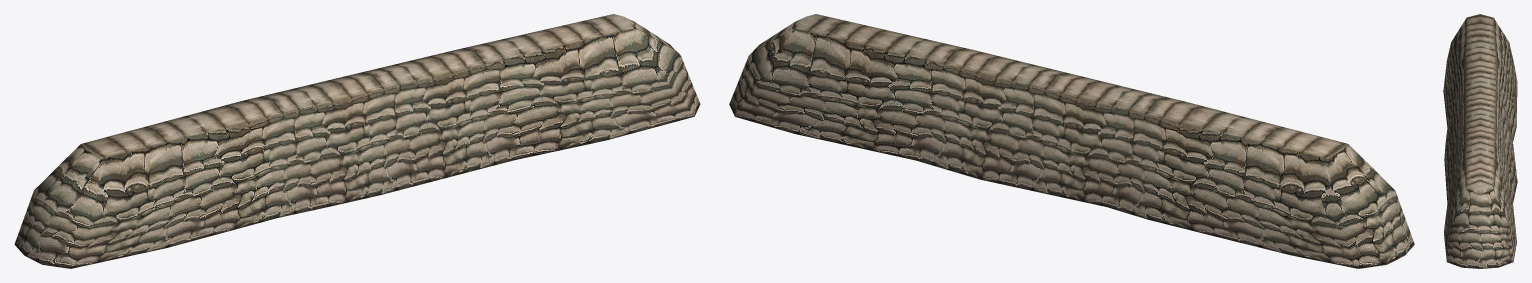
The model's file is sandb.obj.
3 renders of one model, left to right at view 1: azimuth 30°, elevation 25°; view 2: azimuth 150°, elevation 25°; view 3: azimuth 270°, elevation 25°, orthographic. The views are drawn at different scales.
Parts seen in each view (by area): view 1: sandbags; view 2: sandbags; view 3: sandbags.
Part boxes in pixels (x1=…): sandbags: x1=14, y1=14, x2=700, y2=268; sandbags: x1=729, y1=14, x2=1414, y2=268; sandbags: x1=1443, y1=14, x2=1517, y2=268.
Bounding box in the file's own units: 16.72 × 2.28 × 2.44.
1 material, 1 textured.
